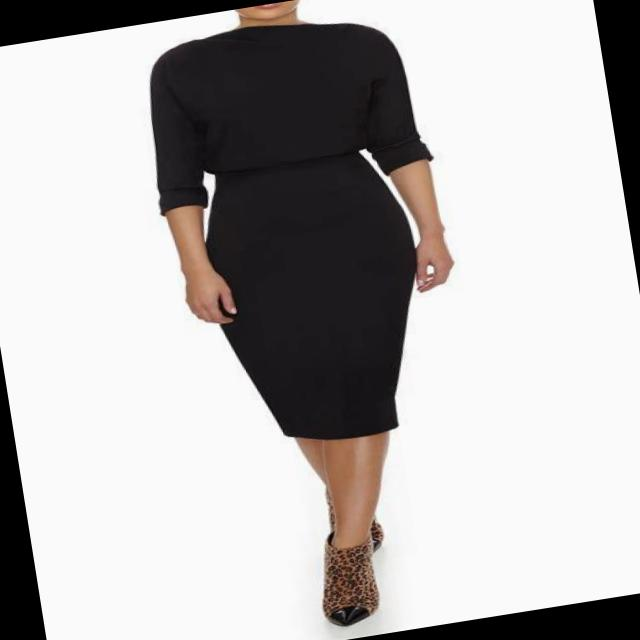dress: (133, 1, 474, 462)
